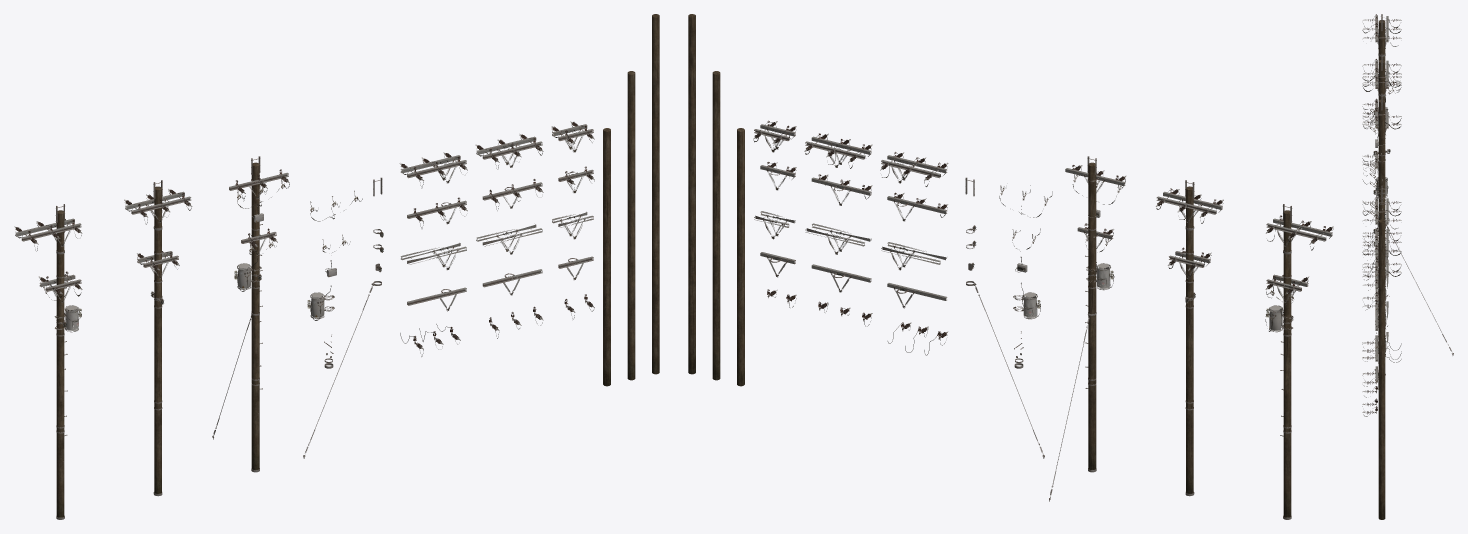
File: prop_powerpole.glb
3 views of the same model, side by side, from view 1: azimuth 30°, elevation 25°; view 2: azimuth 150°, elevation 25°; view 3: azimuth 270°, elevation 25° (orthographic). The views are drawn at different scales.
Visible parts, largest first — view 1: pole_large, pole, preset_03_pole, preset_01_pole, preset_02_pole, pole_small, connection_large_01, connection_large_offset_01, preset_02_connection_large_01, preset_03_connection_large_offset_01; view 2: pole_large, pole, preset_01_pole, preset_03_pole, preset_02_pole, pole_small, connection_large_01, connection_large_offset_01, preset_02_connection_large_01, preset_03_connection_large_offset_01; view 3: pole_large, preset_01_pole, connection_large_offset_01, preset_03_connection_large_offset_01, preset_02_connection_large_01, connection_large_01, preset_03_pole, preset_02_pole, connection_small_01, preset_02_connection_small_01, preset_01_connection_large_02, preset_03_connection_small_01_02 (+6 smaller).
Boxes of the visible parts, bbox=[...] form: pole_large: bbox=[652, 14, 659, 374]; pole: bbox=[627, 71, 635, 380]; preset_03_pole: bbox=[56, 210, 64, 517]; preset_01_pole: bbox=[251, 162, 259, 469]; preset_02_pole: bbox=[154, 186, 161, 493]; pole_small: bbox=[603, 128, 610, 386]; connection_large_01: bbox=[475, 134, 543, 169]; connection_large_offset_01: bbox=[399, 152, 467, 188]; preset_02_connection_large_01: bbox=[124, 189, 192, 224]; preset_03_connection_large_offset_01: bbox=[14, 218, 82, 251]; pole_large: bbox=[688, 14, 695, 374]; pole: bbox=[712, 71, 720, 380]; preset_01_pole: bbox=[1088, 162, 1096, 469]; preset_03_pole: bbox=[1283, 210, 1291, 517]; preset_02_pole: bbox=[1186, 186, 1193, 493]; pole_small: bbox=[737, 128, 744, 386]; connection_large_01: bbox=[804, 133, 872, 168]; connection_large_offset_01: bbox=[880, 152, 948, 186]; preset_02_connection_large_01: bbox=[1156, 188, 1223, 223]; preset_03_connection_large_offset_01: bbox=[1266, 215, 1333, 250]; pole_large: bbox=[1378, 219, 1385, 519]; preset_01_pole: bbox=[1378, 99, 1385, 219]; connection_large_offset_01: bbox=[1362, 196, 1401, 231]; preset_03_connection_large_offset_01: bbox=[1362, 14, 1401, 48]; preset_02_connection_large_01: bbox=[1362, 59, 1401, 88]; connection_large_01: bbox=[1362, 228, 1401, 256]; preset_03_pole: bbox=[1378, 20, 1385, 60]; preset_02_pole: bbox=[1378, 60, 1385, 100]; connection_small_01: bbox=[1363, 258, 1401, 282]; preset_02_connection_small_01: bbox=[1363, 112, 1401, 134]; preset_01_connection_large_02: bbox=[1363, 98, 1385, 128]; preset_03_connection_small_01_02: bbox=[1362, 72, 1401, 95].
Size of the model in its own units: 13.12 by 7 by 1.96.
Materials: 2 (2 with a texture image).
